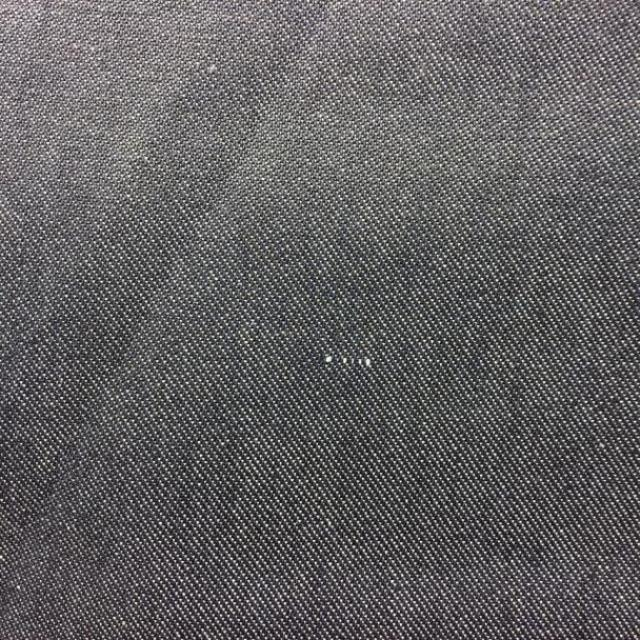Knot: (323, 355, 373, 369)
